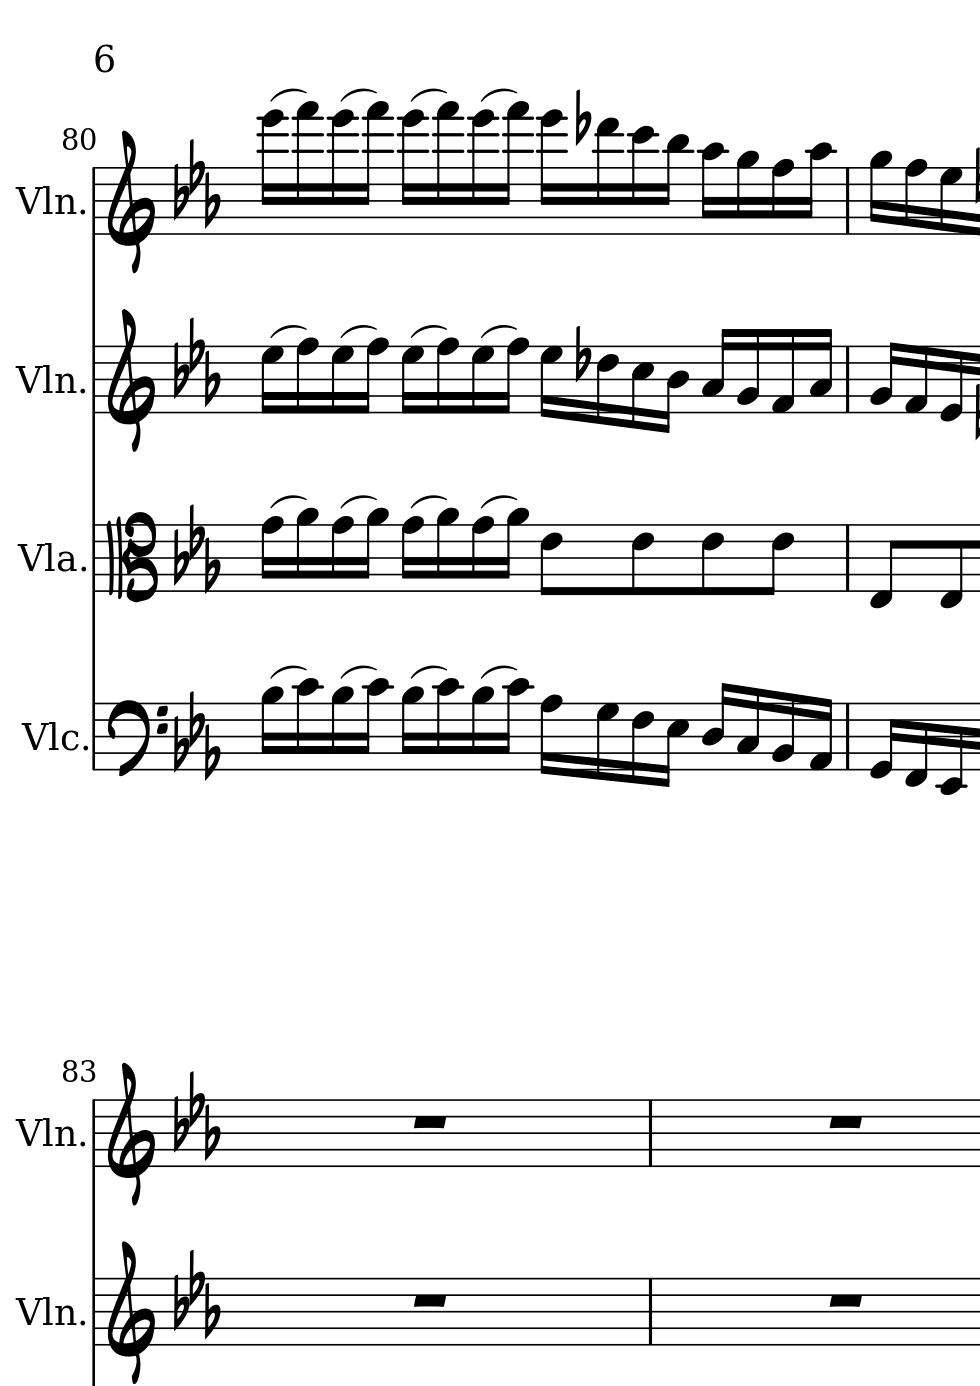0: (78, 125, 97, 154)
16_-1: (903, 701, 929, 789)
16_-2: (937, 701, 964, 796)
16_0: (867, 702, 899, 782), (938, 343, 964, 424)
16_1: (769, 326, 797, 418), (902, 343, 930, 416), (807, 695, 833, 774)
16_10: (800, 141, 836, 236), (498, 677, 533, 774), (358, 677, 393, 772), (698, 141, 730, 236), (433, 677, 463, 772), (293, 678, 323, 772)
16_11: (658, 133, 692, 236)
16_12: (628, 124, 657, 236)
16_13: (592, 117, 622, 235)
16_14: (326, 106, 356, 236), (256, 106, 285, 236), (536, 110, 566, 235), (467, 109, 496, 235), (398, 110, 427, 235)
16_15: (357, 99, 392, 236), (498, 100, 532, 236), (432, 102, 462, 233), (292, 100, 320, 235)
16_2: (867, 340, 898, 416), (735, 327, 760, 414), (770, 689, 797, 771)
16_3: (700, 327, 731, 414), (734, 685, 762, 771), (807, 327, 833, 414)
16_4: (700, 680, 732, 771), (660, 343, 690, 434)
16_5: (658, 701, 690, 790), (629, 344, 654, 431)
16_6: (629, 700, 654, 786), (594, 343, 619, 427)
16_7: (593, 700, 619, 784), (538, 344, 563, 423), (258, 343, 284, 417), (399, 343, 425, 417), (328, 343, 354, 416), (469, 343, 494, 417), (937, 164, 962, 236)
16_8: (357, 336, 389, 414), (498, 337, 529, 415), (538, 694, 563, 778), (768, 158, 794, 236), (258, 515, 284, 594), (399, 515, 425, 594), (469, 516, 495, 595), (293, 336, 319, 414), (434, 336, 460, 414), (328, 515, 354, 593), (902, 158, 927, 236)
16_9: (358, 506, 391, 593), (498, 506, 530, 594), (734, 150, 762, 236), (434, 507, 461, 594), (328, 686, 355, 772), (468, 686, 495, 772), (294, 507, 320, 594), (399, 685, 425, 772), (867, 150, 892, 236), (259, 685, 284, 772)
3: (78, 1057, 97, 1085)
6: (94, 42, 113, 74)
8: (60, 1057, 78, 1085), (60, 126, 78, 153)
8_-1: (867, 522, 902, 611), (937, 522, 964, 612)
8_6: (759, 522, 794, 597), (629, 522, 655, 597), (699, 522, 724, 597), (538, 523, 562, 597)
A_F: (170, 137, 222, 227), (171, 1249, 222, 1338)
Cclef: (103, 510, 157, 604)
E_F: (168, 688, 223, 776), (169, 502, 222, 592), (170, 316, 222, 405), (171, 1070, 222, 1158)
Fclef: (105, 697, 169, 780)
Flat: (572, 87, 591, 148), (572, 323, 590, 384)
Gclef: (104, 1239, 157, 1385), (105, 306, 157, 453), (105, 128, 157, 274), (105, 1059, 156, 1205)
Rests1: (824, 1289, 867, 1311), (824, 1111, 867, 1131), (409, 1289, 450, 1311), (409, 1111, 450, 1131)
Single_barline: (641, 1100, 658, 1166), (641, 1279, 658, 1345), (839, 346, 855, 413), (839, 703, 855, 770), (839, 526, 855, 591), (839, 166, 854, 235), (86, 524, 101, 593), (87, 346, 101, 414), (87, 703, 101, 770), (87, 1279, 101, 1346), (87, 166, 100, 235), (87, 1099, 100, 1166)
Slur: (267, 322, 309, 340), (268, 86, 309, 104), (337, 87, 379, 104), (478, 86, 519, 103), (267, 664, 309, 680), (339, 493, 378, 510), (408, 87, 449, 103), (479, 663, 517, 680), (338, 323, 378, 339), (478, 323, 518, 339), (409, 323, 448, 339), (269, 493, 308, 509), (409, 663, 448, 679), (338, 664, 378, 679), (480, 494, 517, 510), (409, 494, 448, 509)
Vla: (16, 536, 77, 581)
Vlc: (20, 714, 78, 756)
Vln: (14, 179, 78, 223), (15, 1291, 77, 1334), (15, 358, 77, 401), (15, 1112, 78, 1154)
